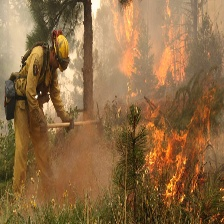fire: (144, 93, 219, 212), (158, 3, 201, 78), (111, 3, 147, 76)
